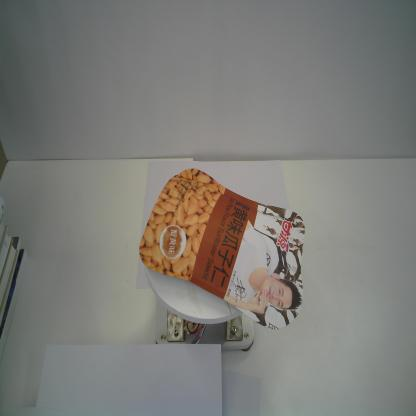Dried Fruit: (138, 167, 306, 330)
